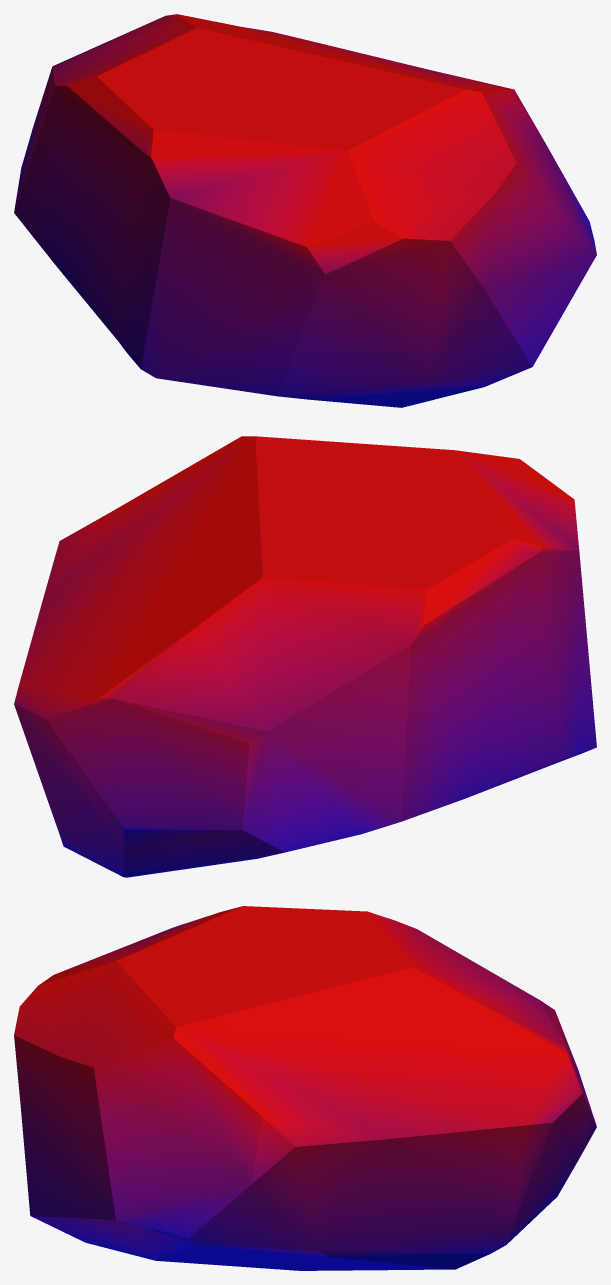
File: SM_Rock_04.fbx
The picture shows the model from 3 angles, top to bottom: view 1: azimuth 30°, elevation 25°; view 2: azimuth 150°, elevation 25°; view 3: azimuth 270°, elevation 25°; orthographic projection. The views are drawn at different scales.
Parts seen in each view (by area): view 1: rock_d_geo; view 2: rock_d_geo; view 3: rock_d_geo.
Boxes of the visible parts, x1,y1,x2,y2 form: rock_d_geo: (14,14,596,407); rock_d_geo: (14,436,596,877); rock_d_geo: (14,906,596,1270).
Bounding box in the file's own units: 209 × 129 × 258.
